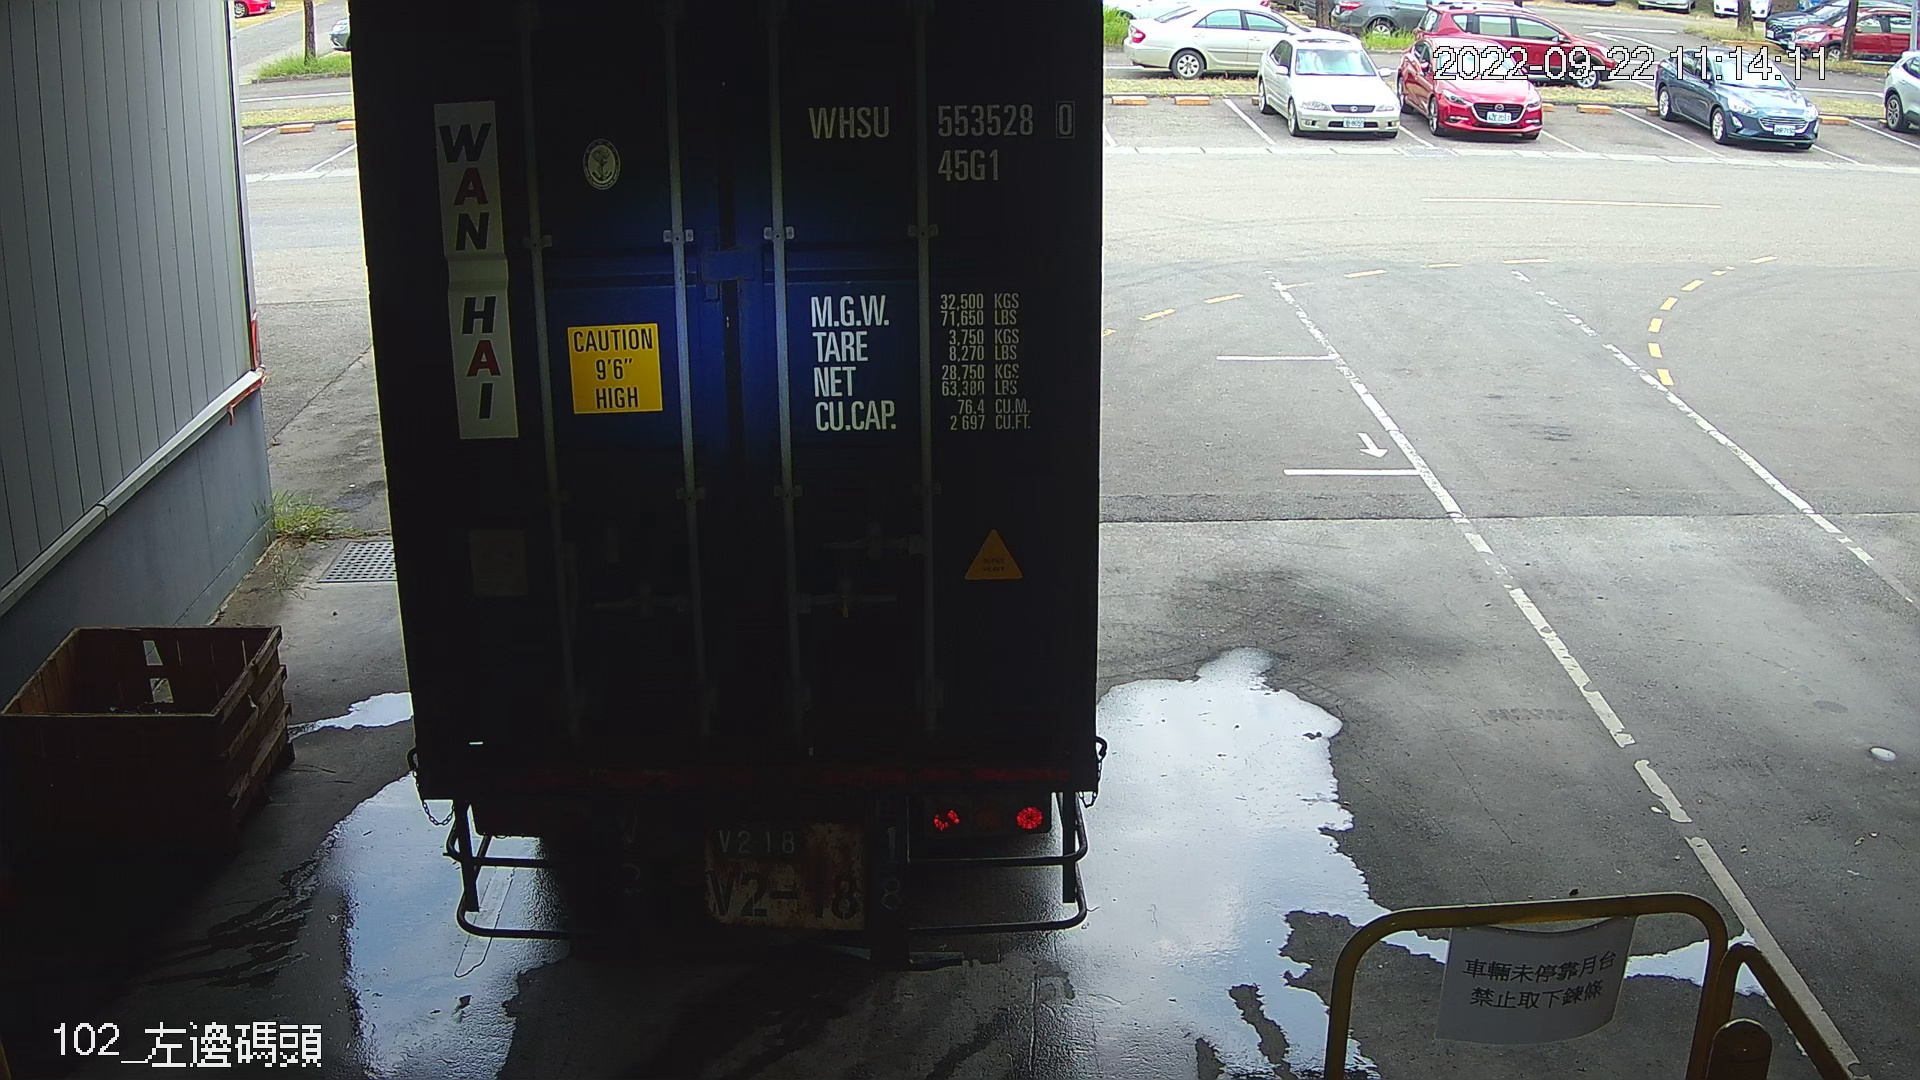container: (795, 94, 1084, 190)
